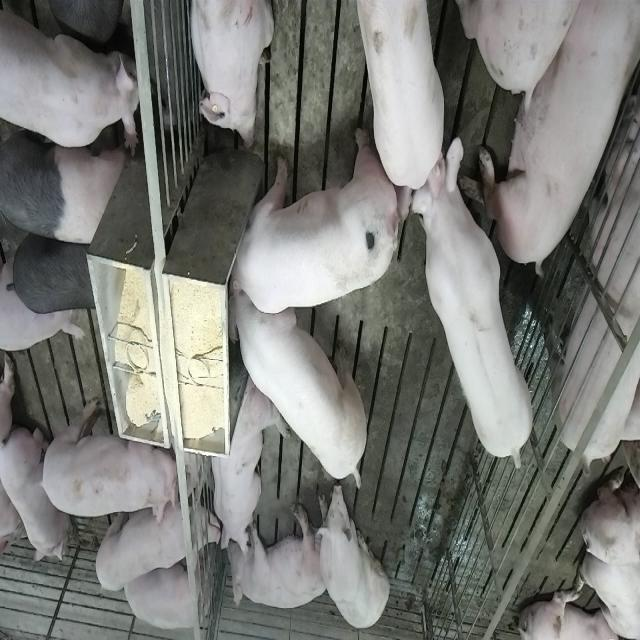Feeding: (220, 126, 397, 315), (230, 285, 372, 497)
Lateral_lying: (226, 503, 330, 611)
Sitting: (316, 481, 390, 634)
Standing: (404, 130, 534, 472), (542, 56, 640, 468), (2, 0, 142, 153), (358, 0, 454, 191), (36, 393, 178, 521), (2, 118, 128, 248), (7, 230, 102, 316)
Sternal_lying: (208, 373, 284, 555), (186, 0, 274, 150), (2, 420, 68, 566)
